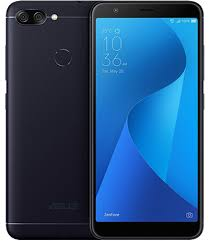asus: (87, 1, 203, 238), (5, 1, 94, 240)
